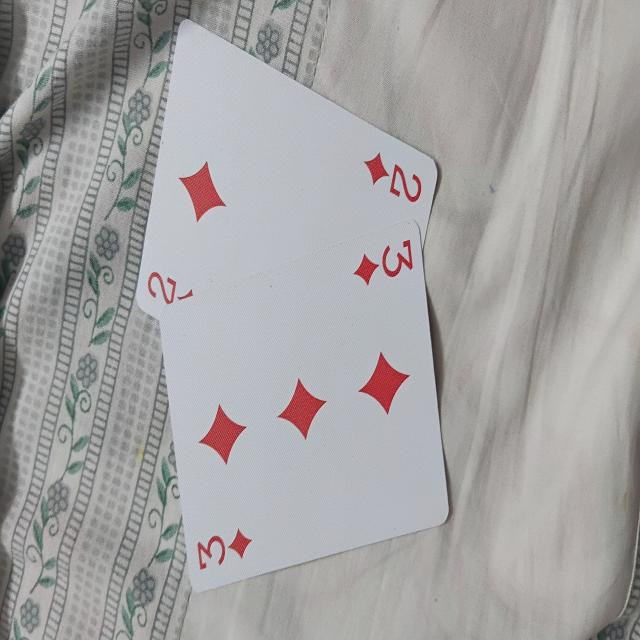3D: (166, 218, 449, 605)
